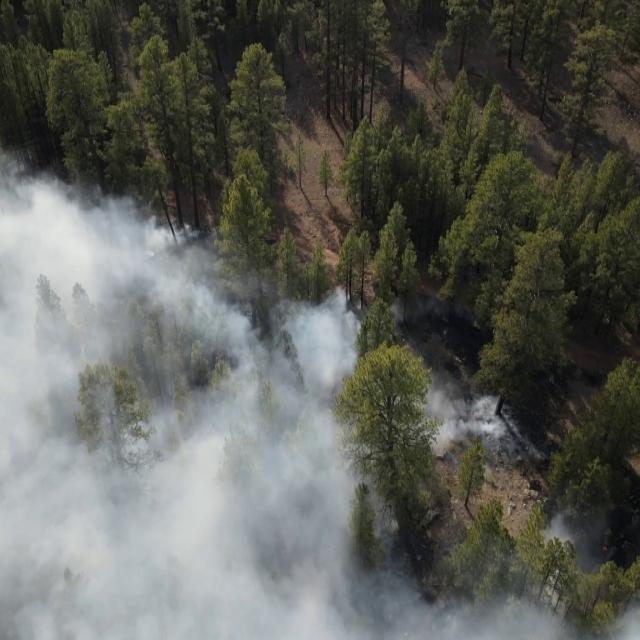fire: (600, 542, 610, 554)
smoke: (0, 287, 364, 640), (0, 224, 256, 287), (399, 589, 638, 640), (415, 359, 518, 459), (364, 447, 399, 640), (542, 502, 617, 578), (0, 190, 156, 224), (391, 288, 475, 328), (0, 170, 73, 190), (0, 147, 25, 169)
